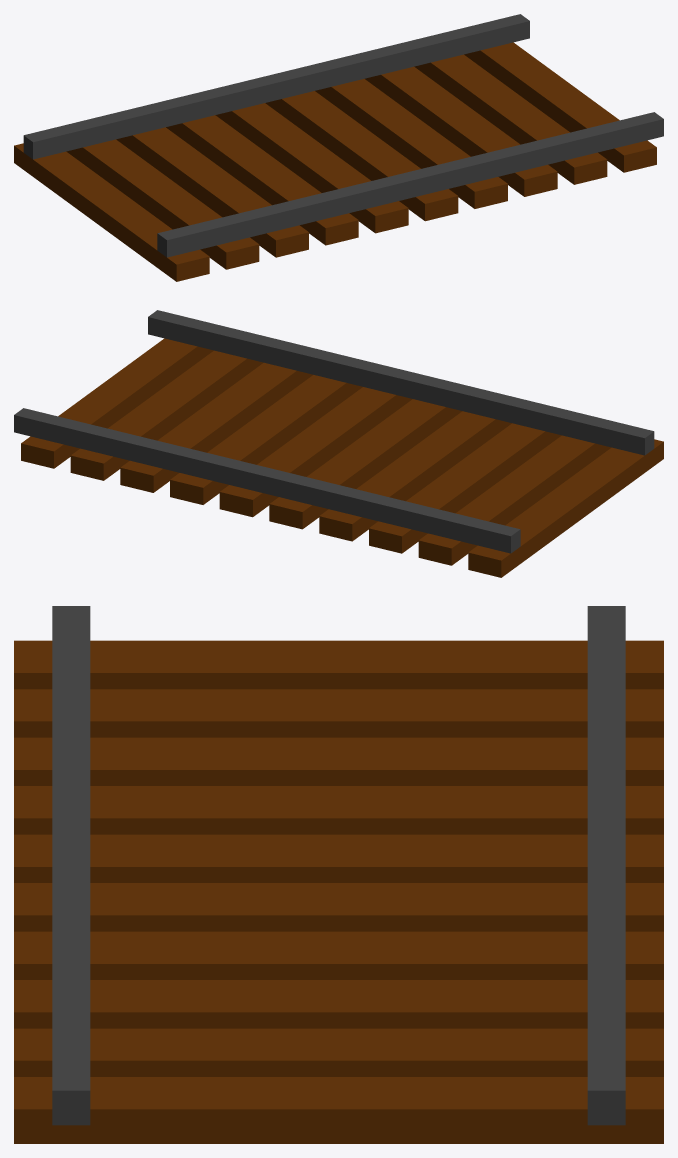
Rendered from obj_tracks2.obj.
3 renders of one model, top to bottom at view 1: azimuth 30°, elevation 25°; view 2: azimuth 150°, elevation 25°; view 3: azimuth 270°, elevation 25°, orthographic. The views are drawn at different scales.
Size of the model in its own units: 3 by 0.2 by 1.7.
1 material, 1 textured.
